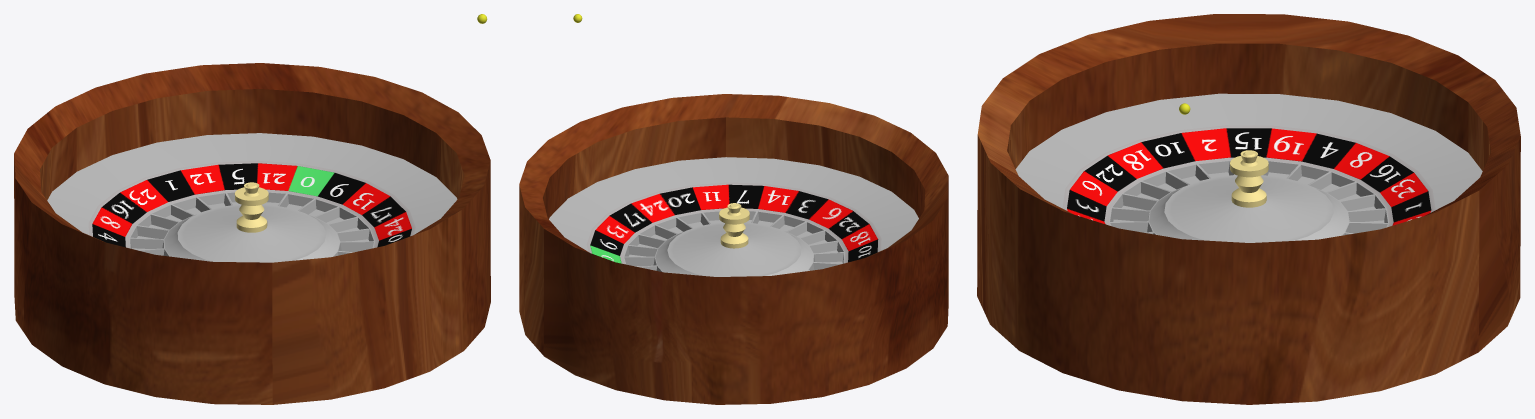
Rendered from roulette.fbx.
3 renders of one model, left to right at view 1: azimuth 30°, elevation 25°; view 2: azimuth 150°, elevation 25°; view 3: azimuth 270°, elevation 25°, orthographic. The views are drawn at different scales.
Parts seen in each view (by area): view 1: Baraban; view 2: Baraban; view 3: Baraban.
Part boxes in pixels (box(x1,y1,x2,y2)): Baraban: box(14, 63, 490, 404); Baraban: box(519, 94, 948, 404); Baraban: box(977, 14, 1520, 404).
Bounding box in the file's own units: 8.86 × 5.4 × 8.88.
5 materials, 4 textured.
